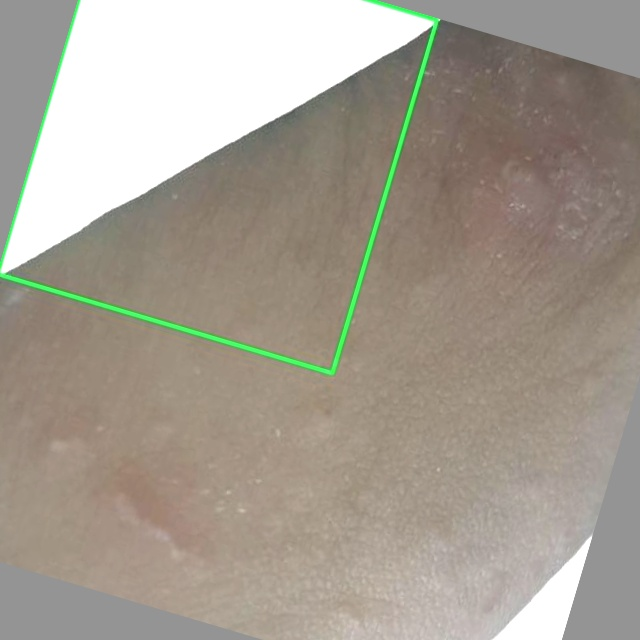Scabies: (0, 0, 437, 373)
